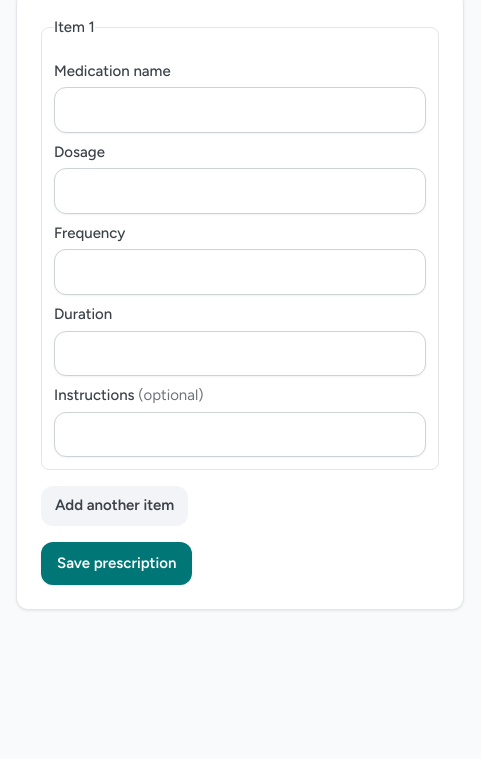
Scenario: PrescriptionForm › adds a second item row when "Add another item" is clicked
The width and height of the screenshot is (481, 759).
expect the element "Item 1" is shown: met, box top-left (41, 16), bottom-right (439, 470)
Click the button "Add another item". click: (115, 506)
box: top-left (41, 486), bottom-right (188, 526)
(page scrolled)
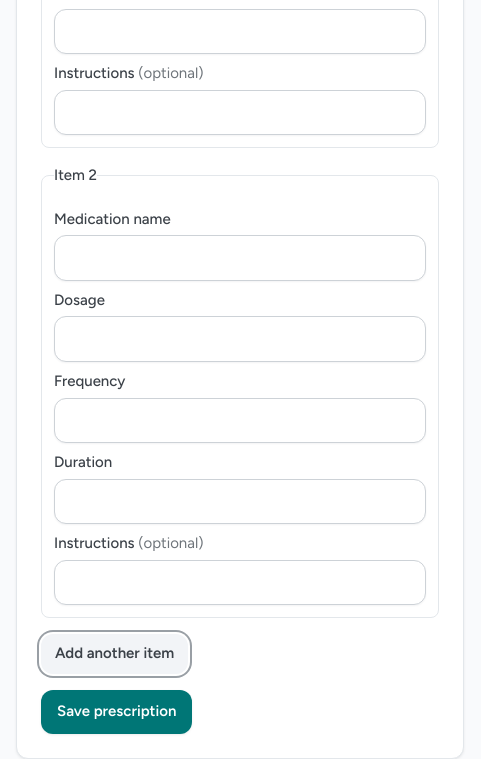
expect the element "Item 2" is shown: met, box top-left (41, 164), bottom-right (439, 618)
